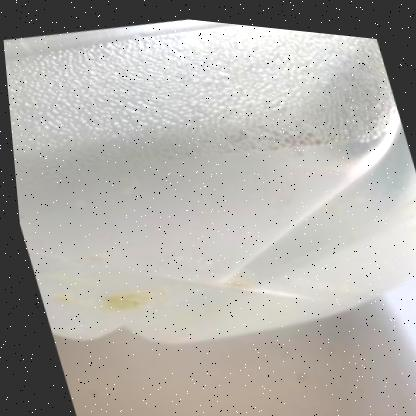Plastic: (3, 15, 416, 340)
